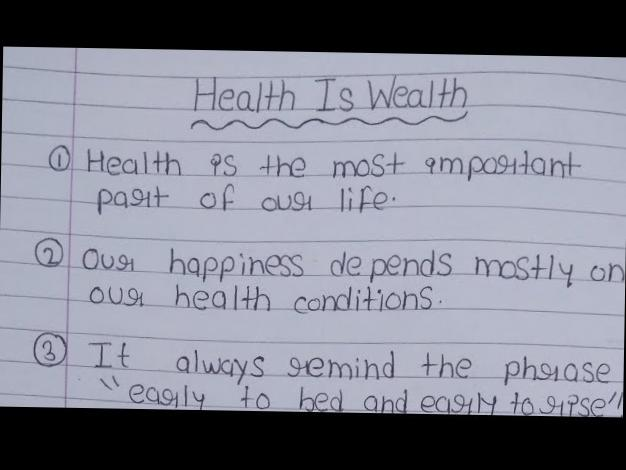text: (31, 329, 613, 390), (32, 235, 626, 290), (48, 138, 584, 186), (97, 374, 624, 421), (87, 277, 434, 320), (192, 68, 472, 118), (96, 178, 397, 222)
